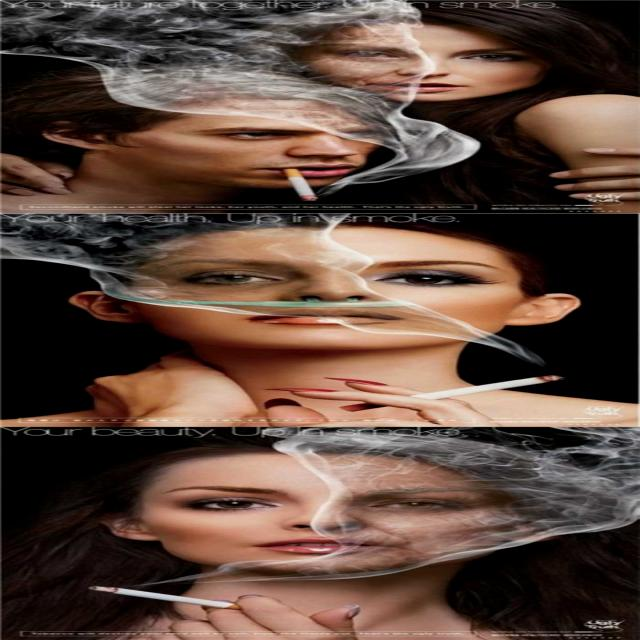Smooking: (321, 371, 615, 424), (60, 582, 264, 616), (266, 163, 337, 206)
